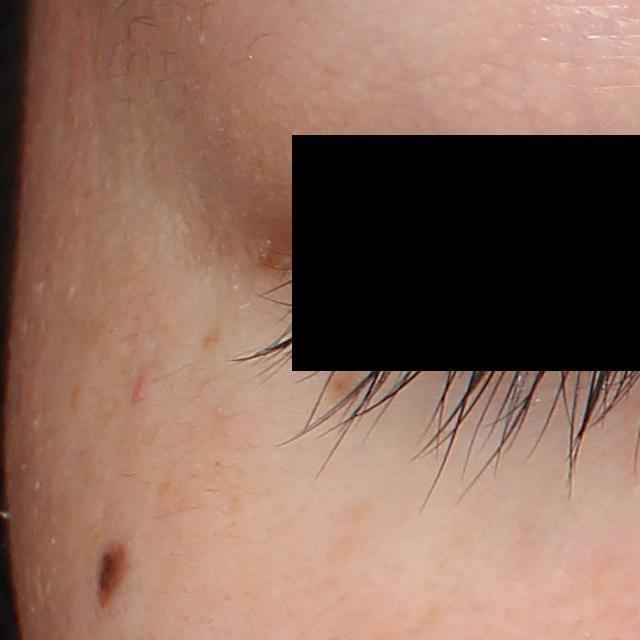melasma: (197, 324, 224, 353)
nevus: (97, 534, 133, 615)
papule: (130, 379, 147, 401)
